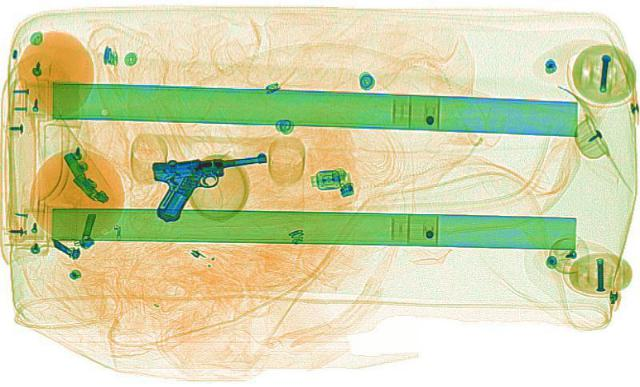Gun: (140, 153, 280, 218)
